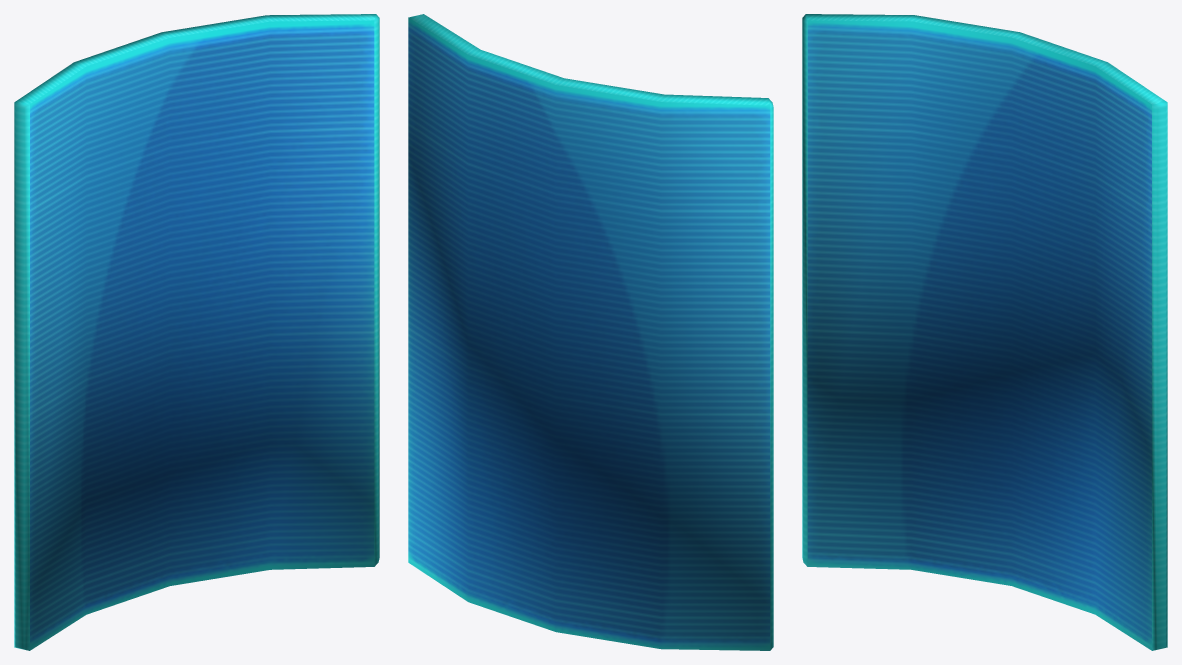
Rendered from ts_zjmckt003.FBX.
The picture shows the model from 3 angles, left to right: view 1: azimuth 30°, elevation 25°; view 2: azimuth 150°, elevation 25°; view 3: azimuth 330°, elevation 25°; orthographic projection.
Visible parts, largest first — view 1: ts_zjmckt003; view 2: ts_zjmckt003; view 3: ts_zjmckt003.
Part boxes in pixels (x1,y1,x2,y2): ts_zjmckt003: (14,14,379,650); ts_zjmckt003: (408,14,773,650); ts_zjmckt003: (802,14,1167,650).
Size of the model in its own units: 2.28 by 3.29 by 0.4397.
